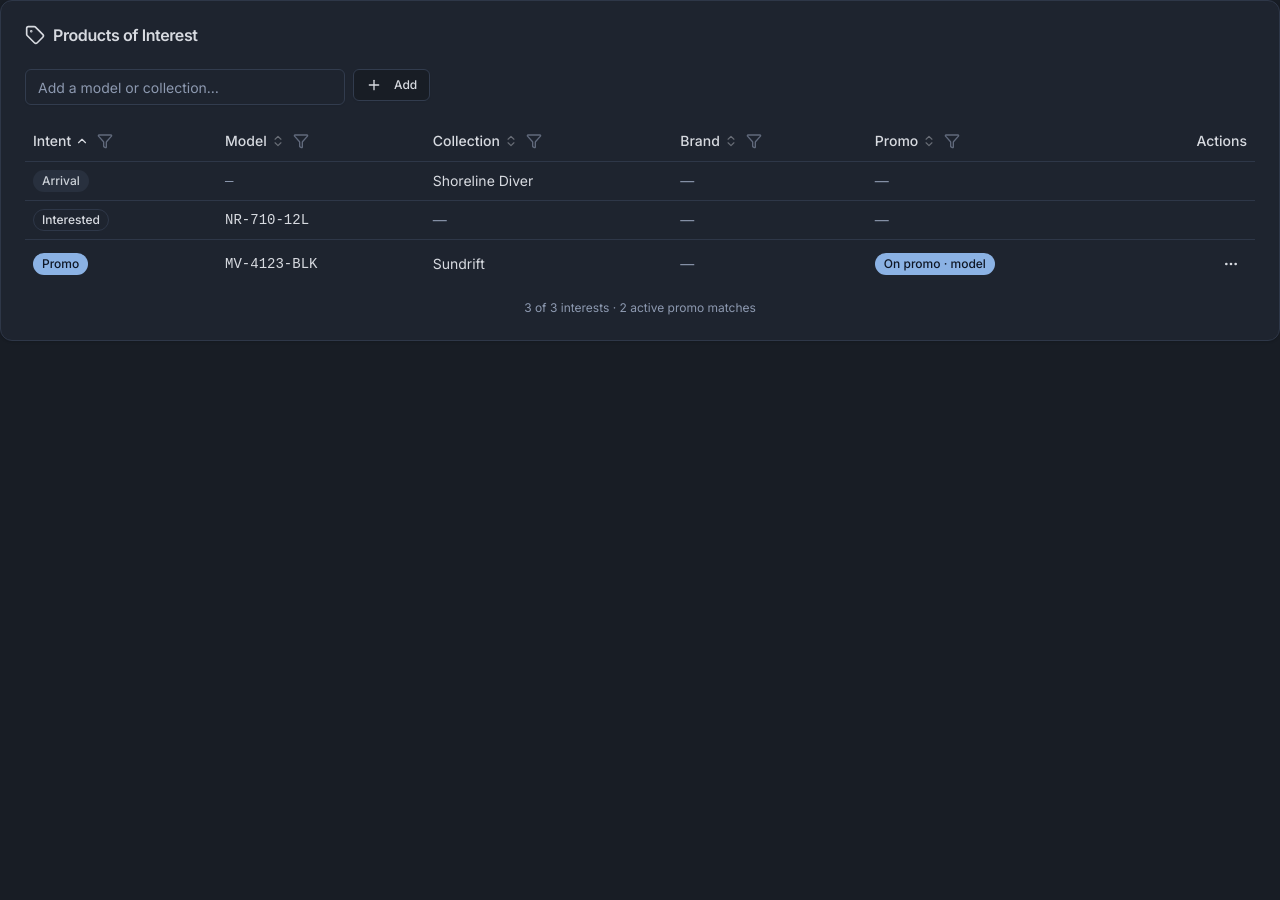
Test case: InterestsTab quick add › reports a same model+collection add that only differs by intent
The image size is (1280, 900).
Type "mv-4123-blk" into the field named "Add an interest" at (185,87), box x1=25 y1=69 x2=345 y2=105
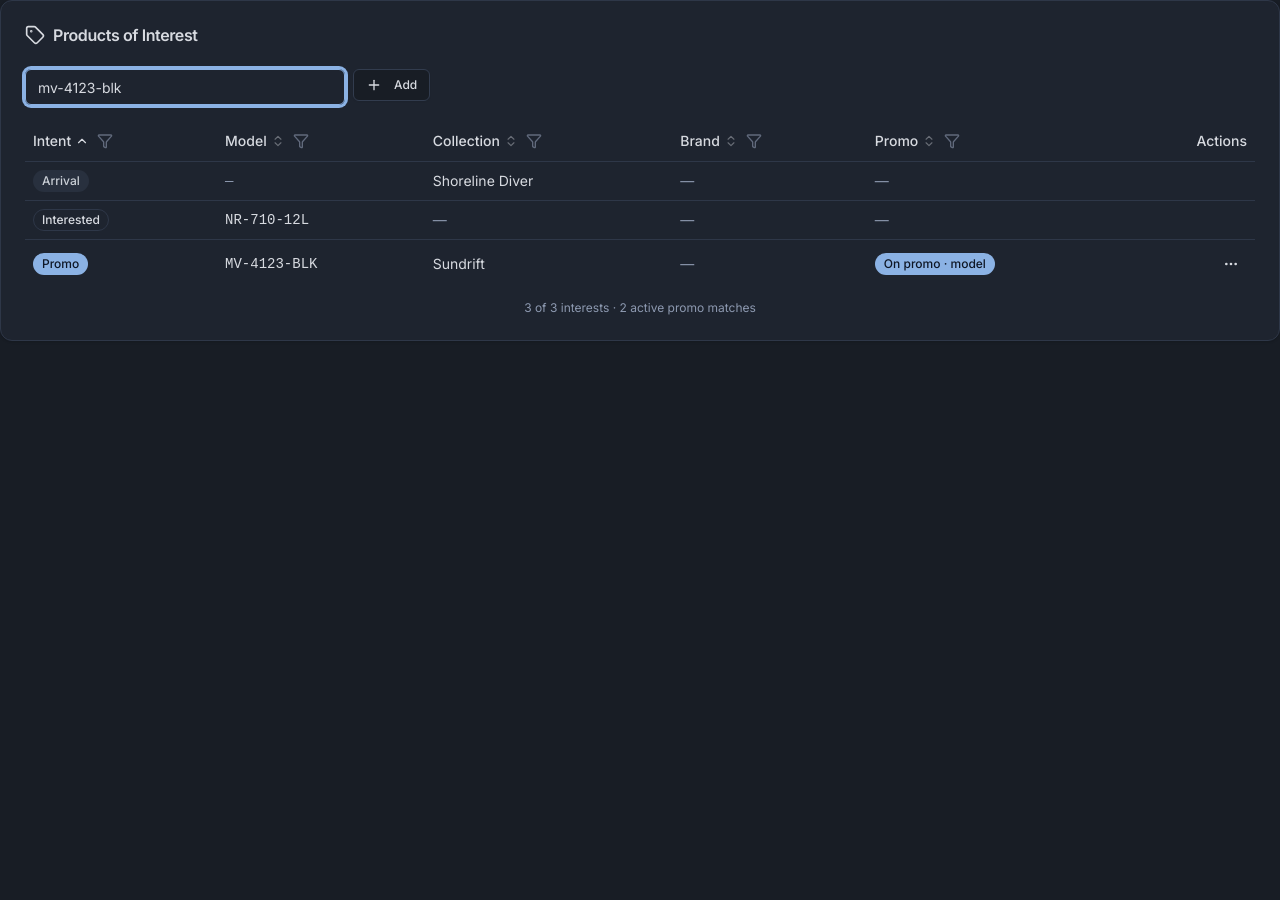
Click the button "Add" at (392,85), box x1=353 y1=69 x2=430 y2=101
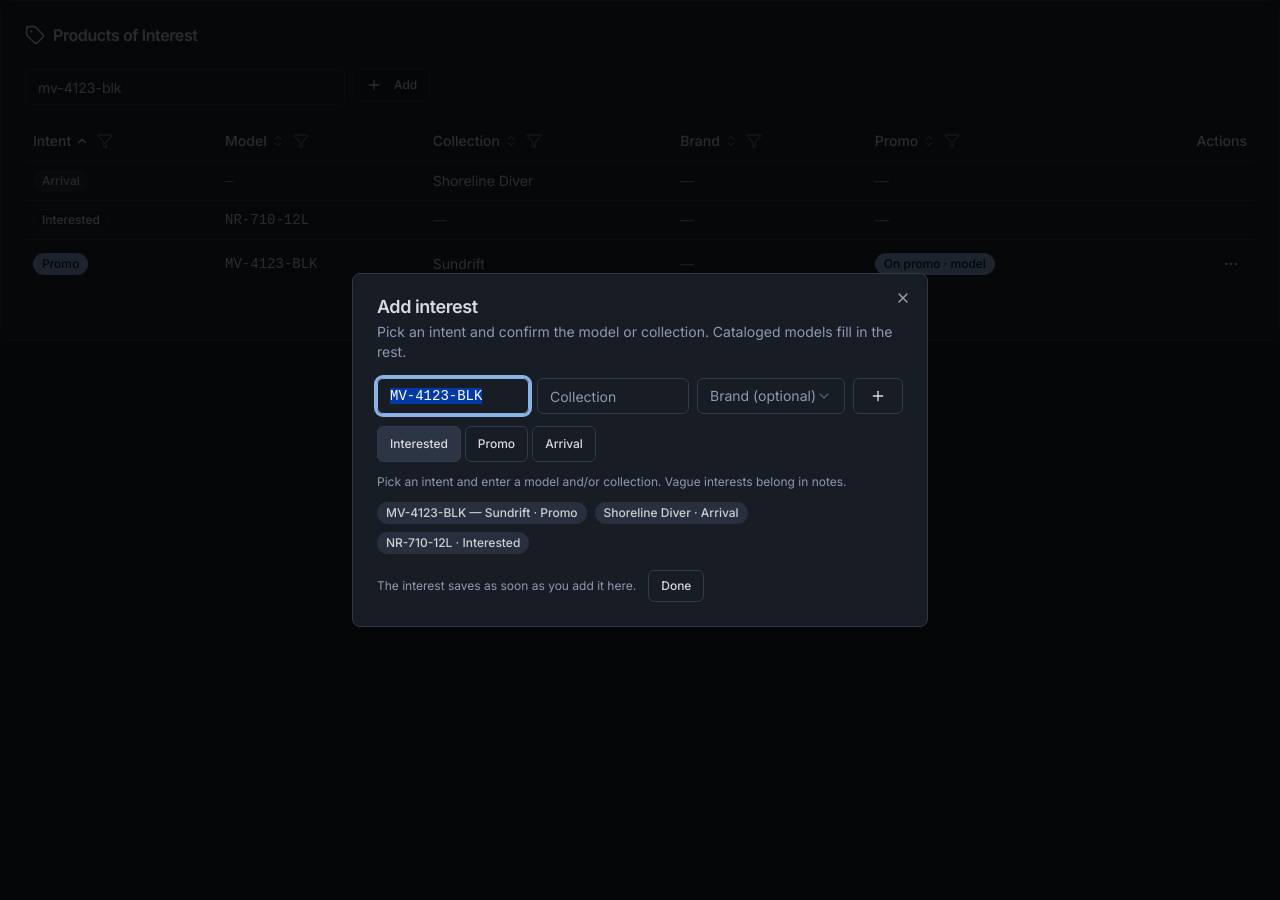
Type "Sundrift" into the field labelled "Collection" at (613,396), box x1=537 y1=378 x2=689 y2=414
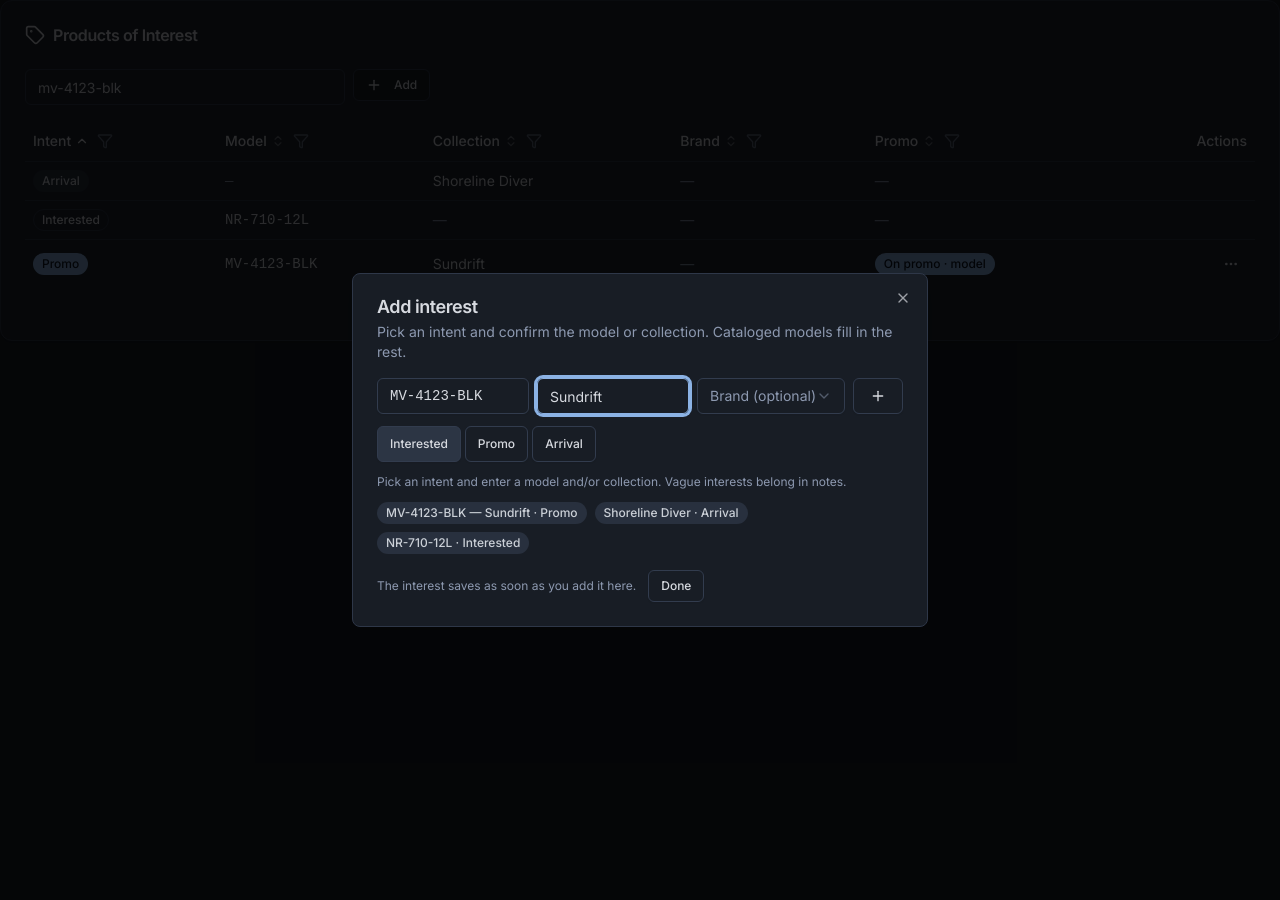
Click the field named "Model number" at (453,396), box x1=377 y1=378 x2=529 y2=414
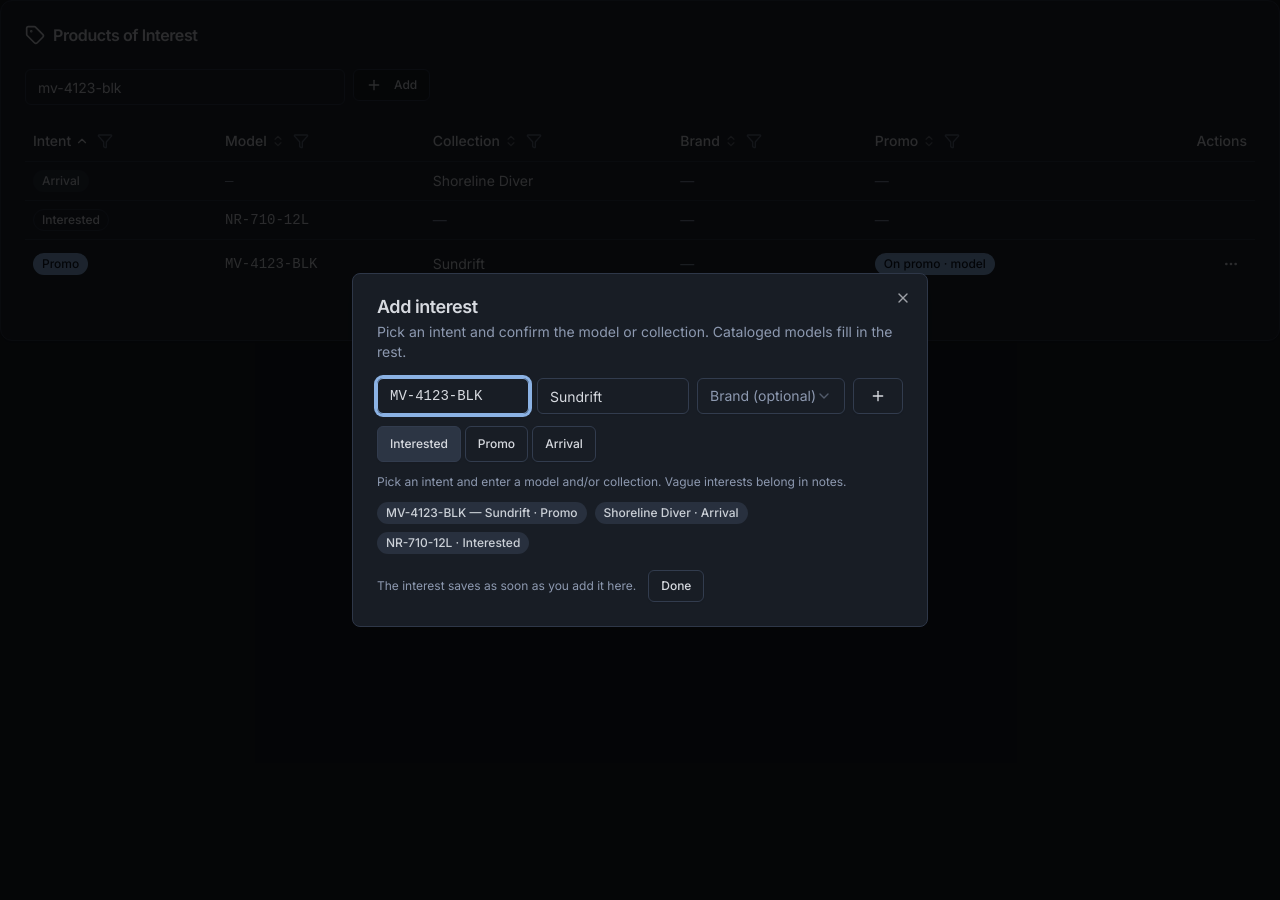
Press Enter
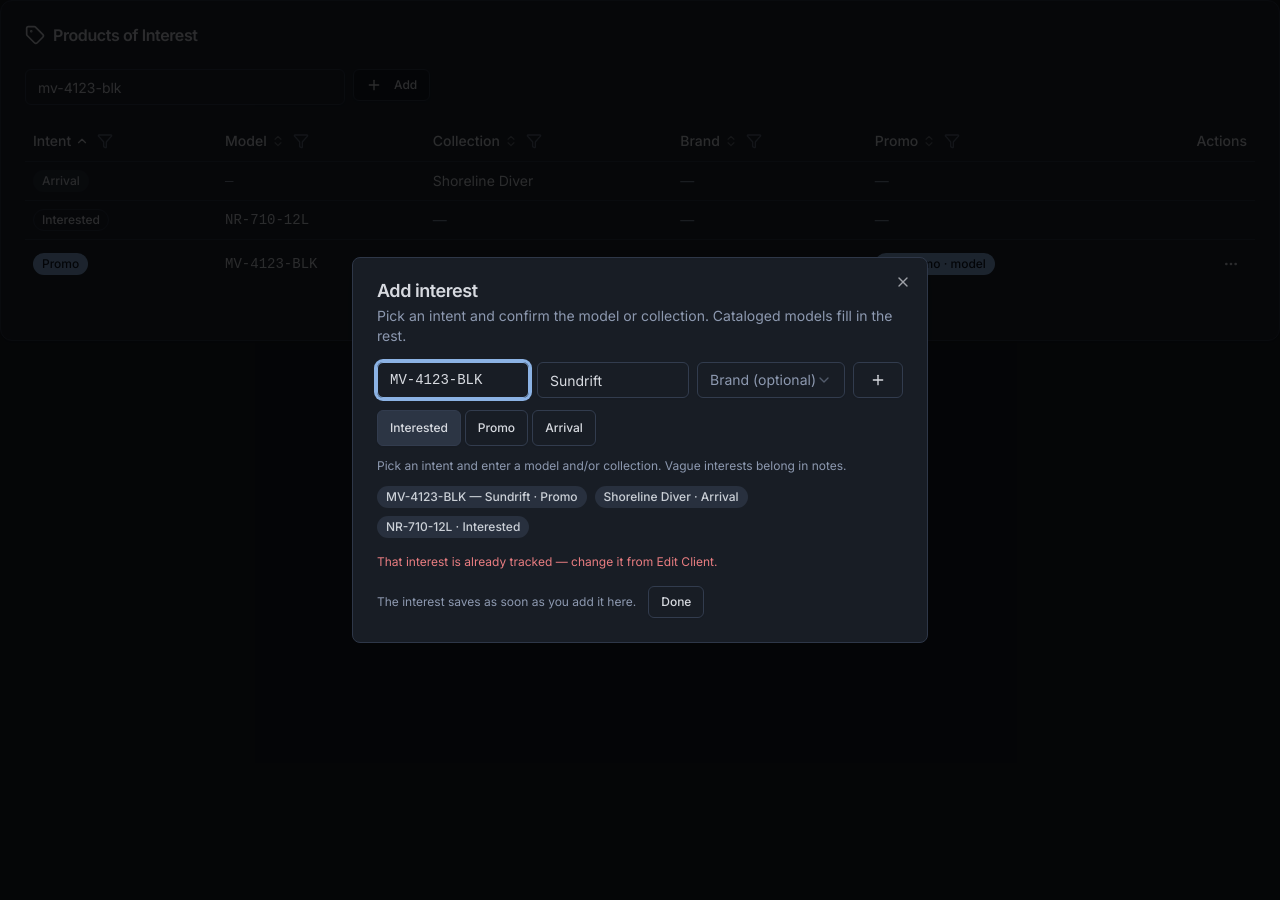
Check: the message reads "That interest is already tracked — change it from Edit Client.", box x1=377 y1=554 x2=717 y2=569
